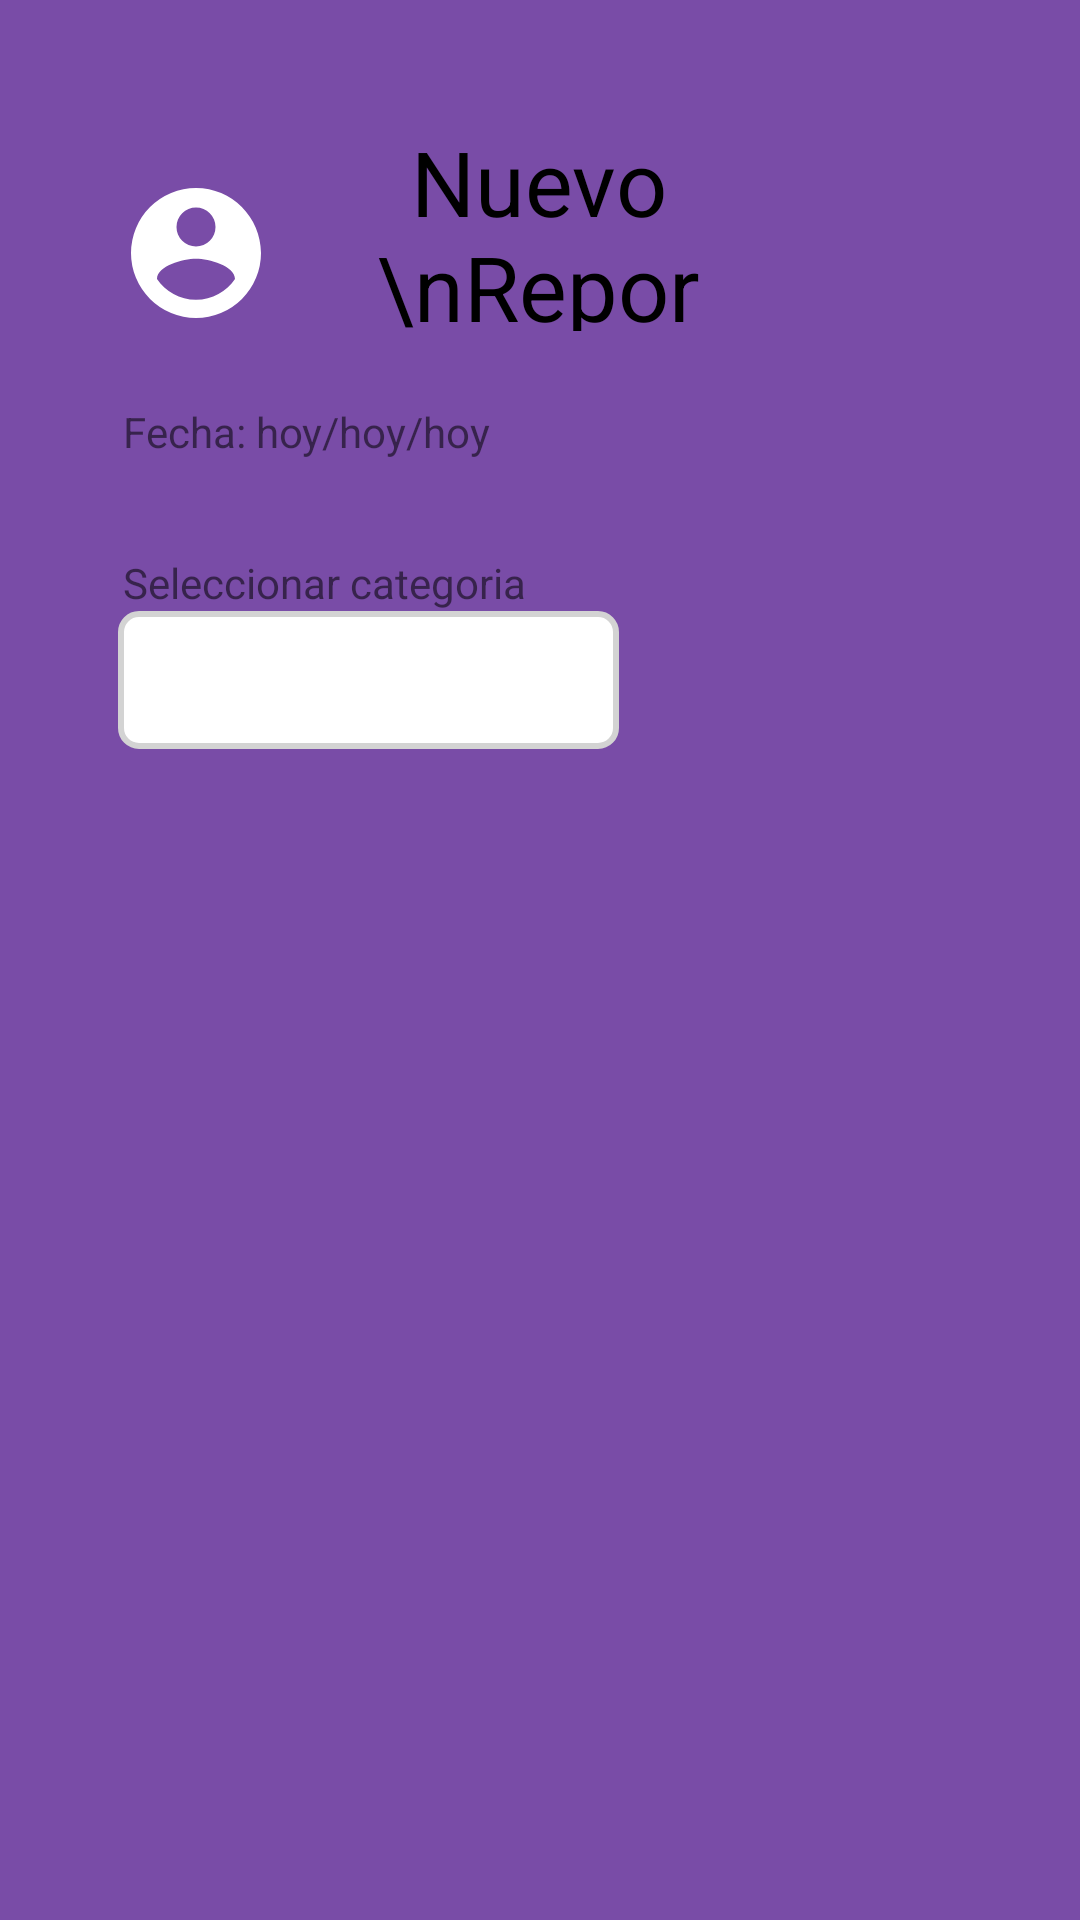

Locate icon controls on the screen. Image size 1080px x 1920px, boxes as (x1, y1, x2, y2).
account circle: (131, 188, 261, 318)
